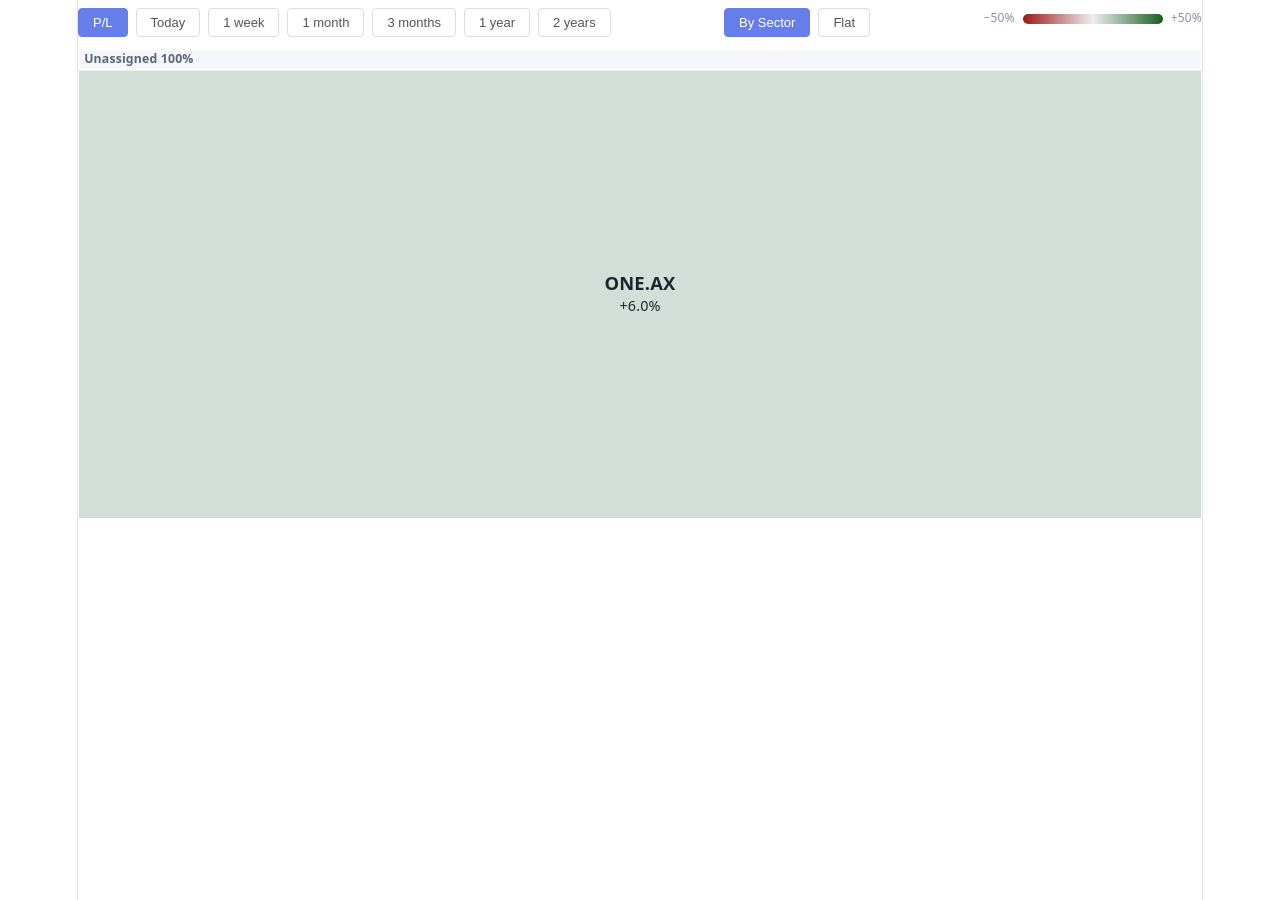
HoldingsHeatMap › narrows the colour band, and its legend, for today's move
This screenshot has width=1280, height=900.
Expected: the text "+50%" is shown, [1171, 6, 1202, 32]
What coordinates should you click on to do the following:
click the button "Today"
I would click on:
 (168, 22)
Its box is [136, 8, 200, 37].
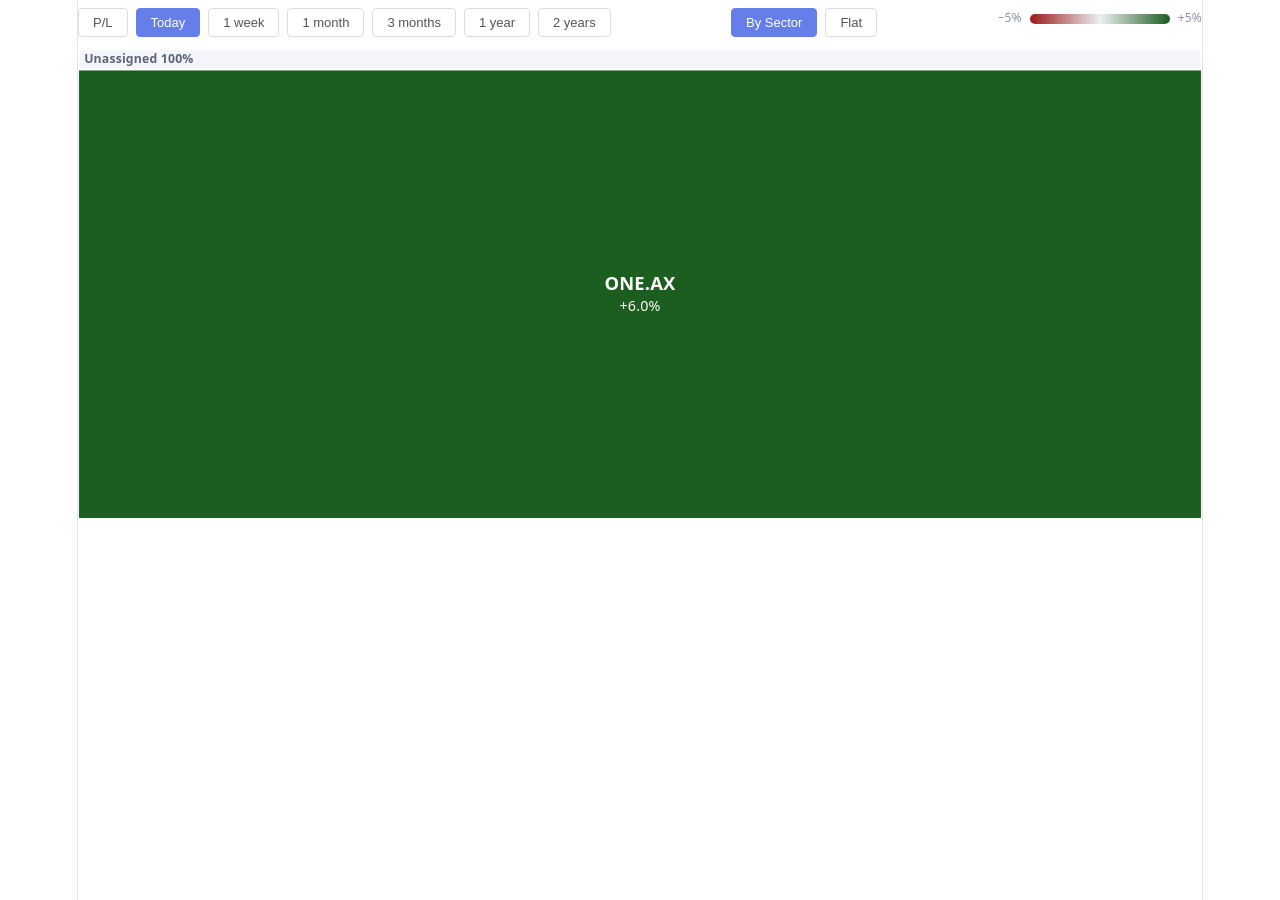
Expected: the text "+5%" is shown, [1178, 6, 1202, 32]
